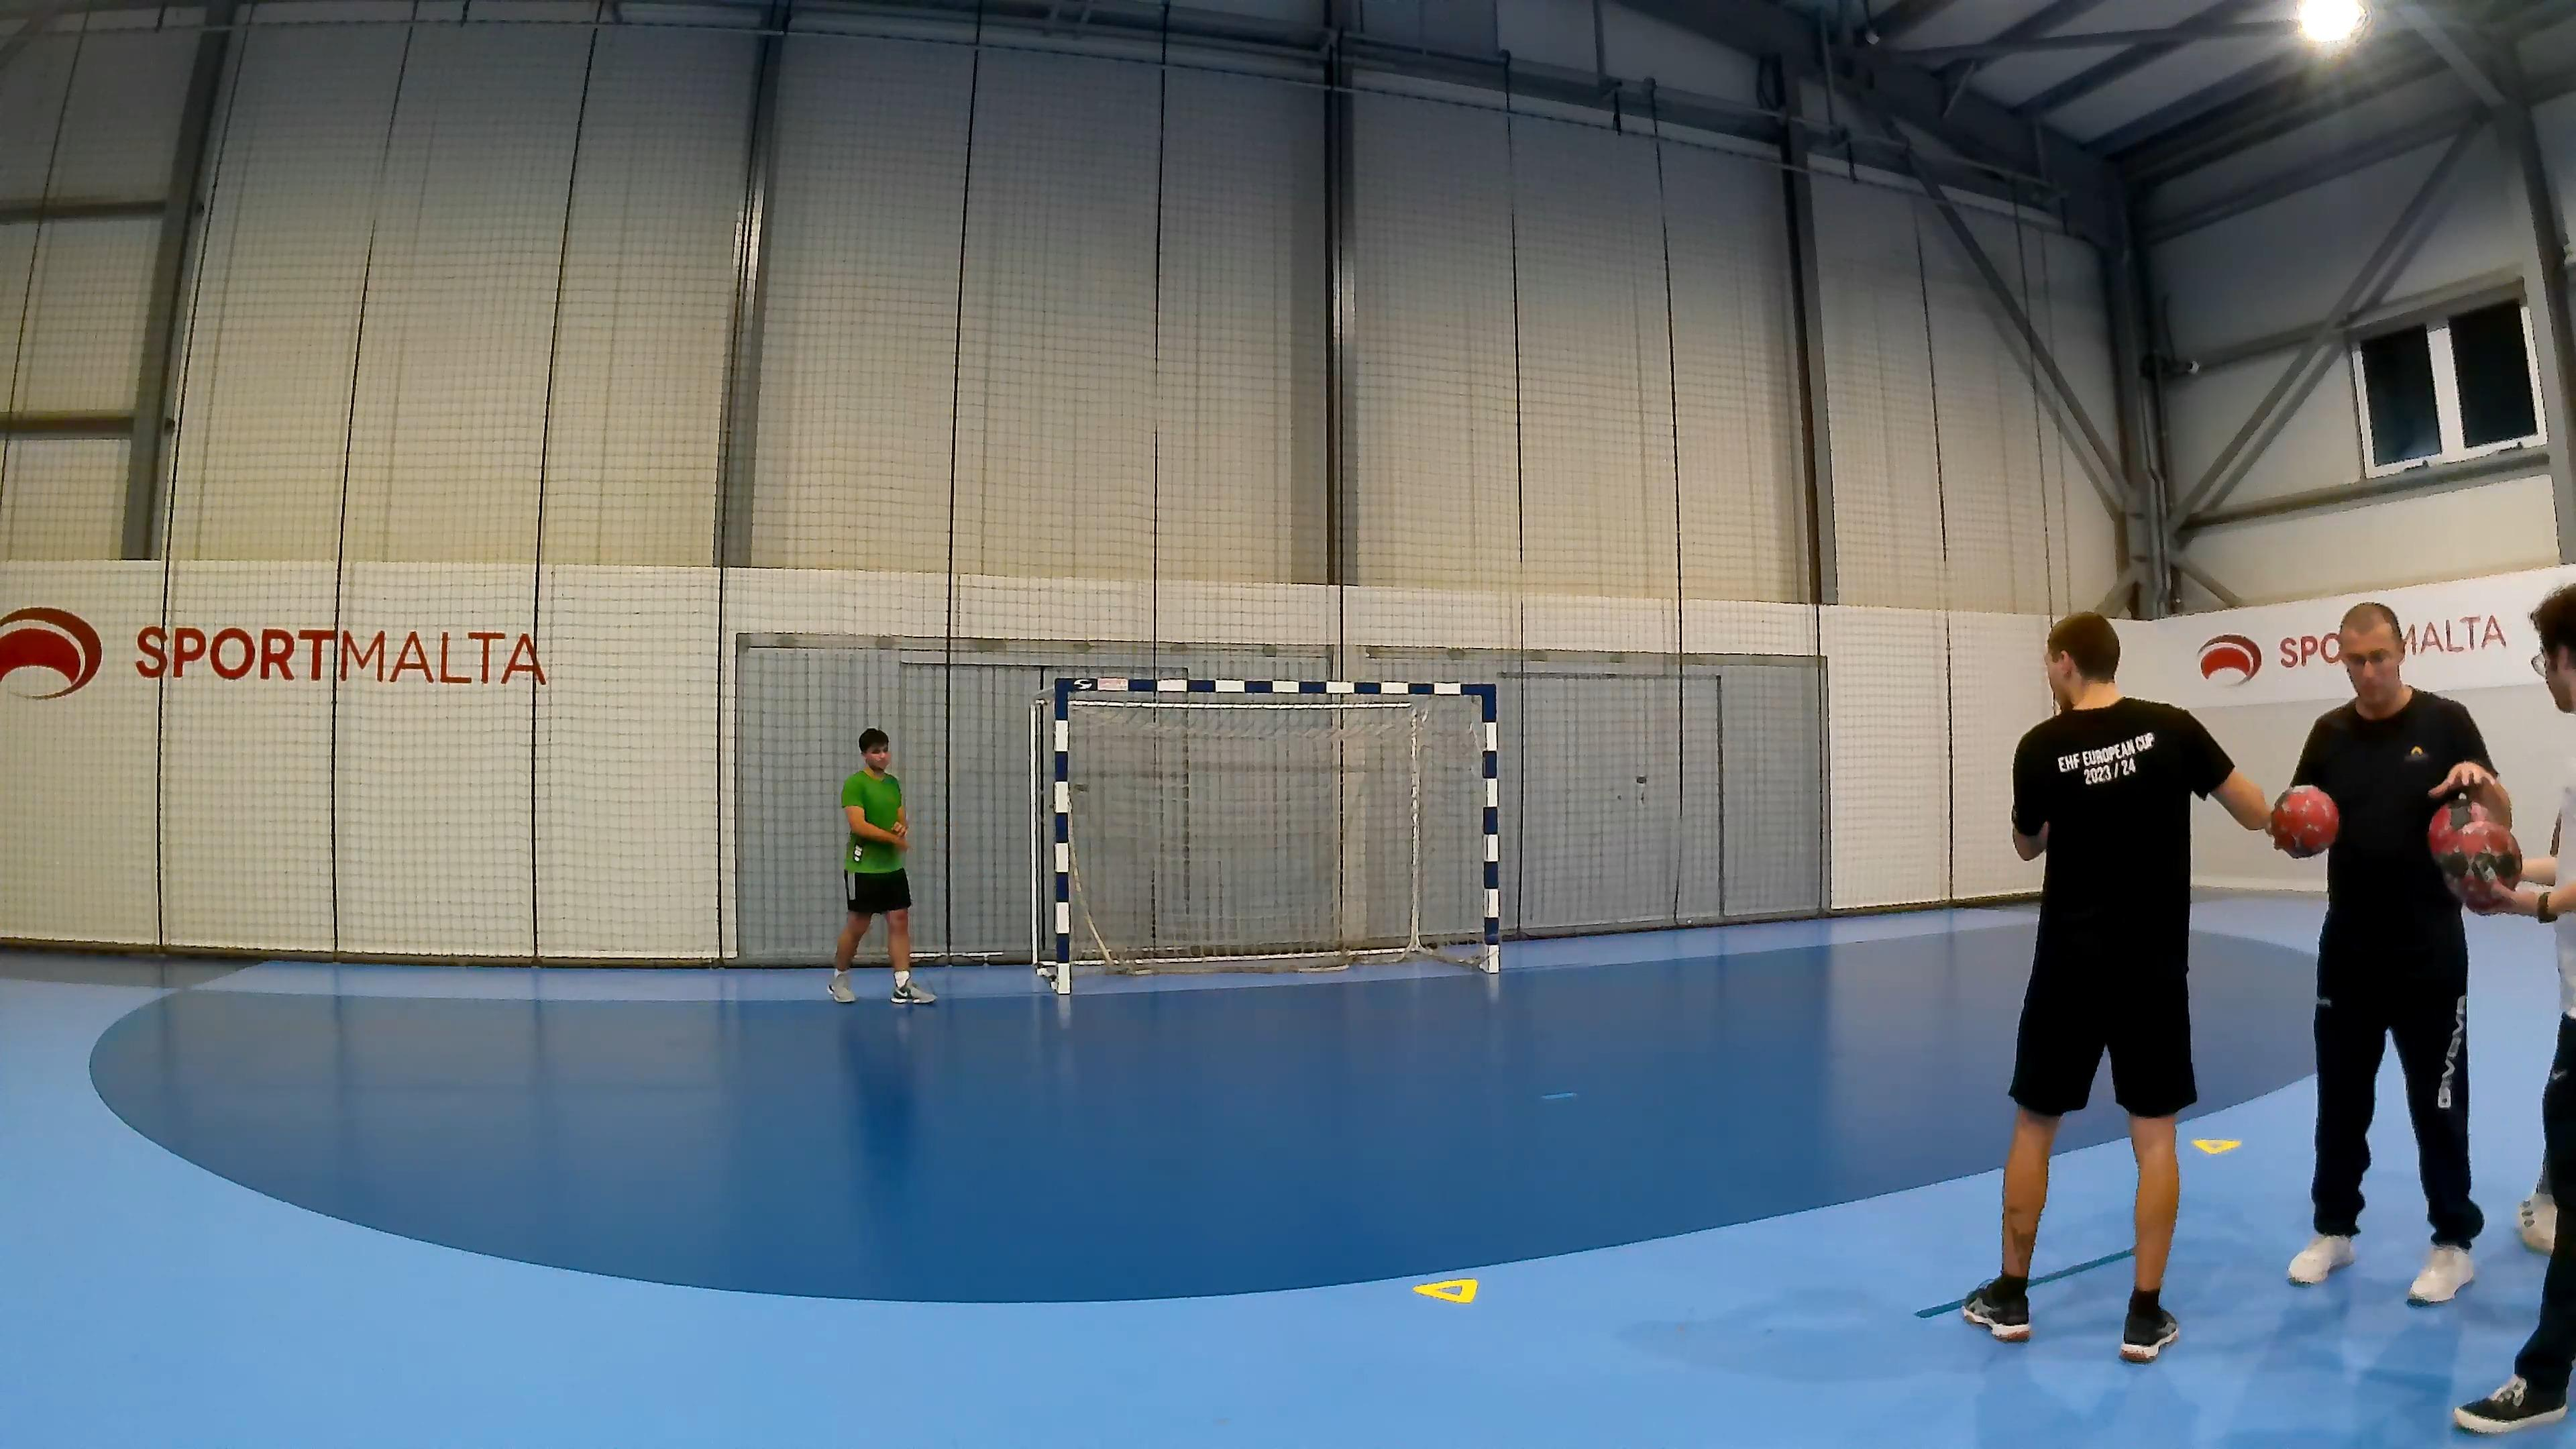handball: (2426, 791, 2521, 904), (2266, 782, 2341, 858)
